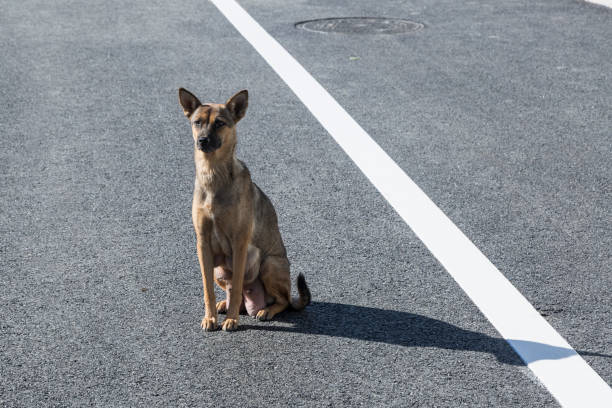kopek: (153, 91, 320, 334)
